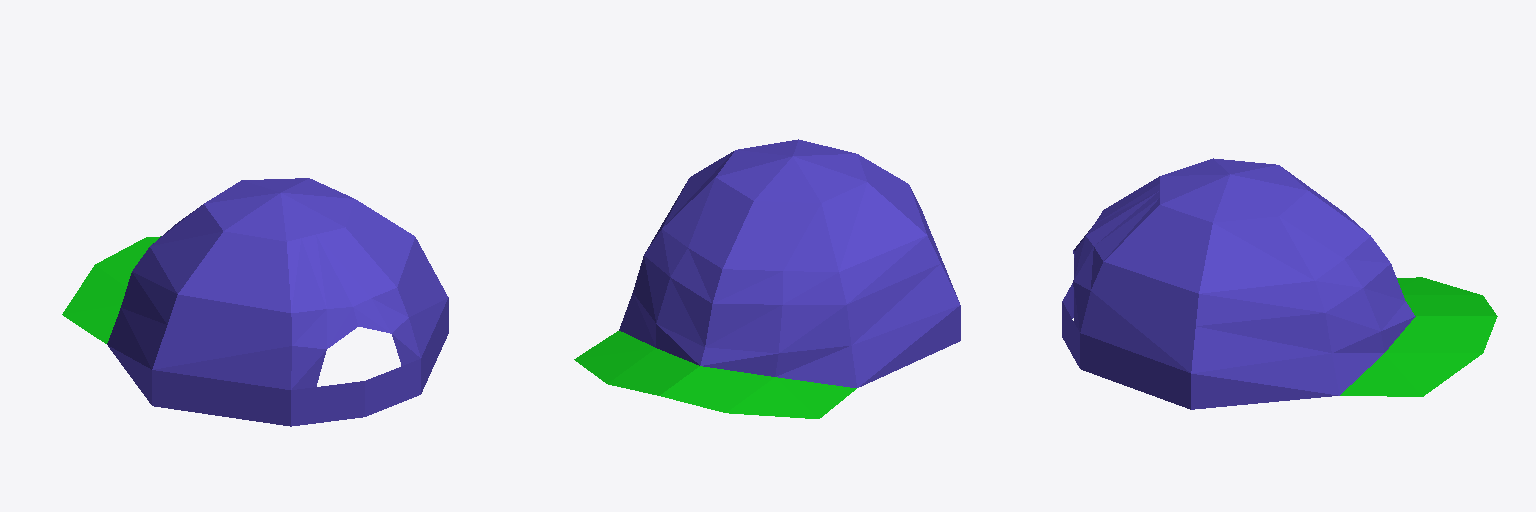
The model's file is cool_cap_hat.obj.
The picture shows the model from 3 angles: view 1: azimuth 30°, elevation 25°; view 2: azimuth 150°, elevation 25°; view 3: azimuth 270°, elevation 25°; orthographic projection.
Parts seen in each view (by area): view 1: cap.001_Sphere.004; view 2: cap.001_Sphere.004; view 3: cap.001_Sphere.004.
Boxes of the visible parts, x1=… form: cap.001_Sphere.004: x1=62, y1=178, x2=448, y2=426; cap.001_Sphere.004: x1=574, y1=139, x2=960, y2=418; cap.001_Sphere.004: x1=1062, y1=158, x2=1497, y2=409.
Bounding box in the file's own units: 0.6437 × 0.3386 × 0.8188.